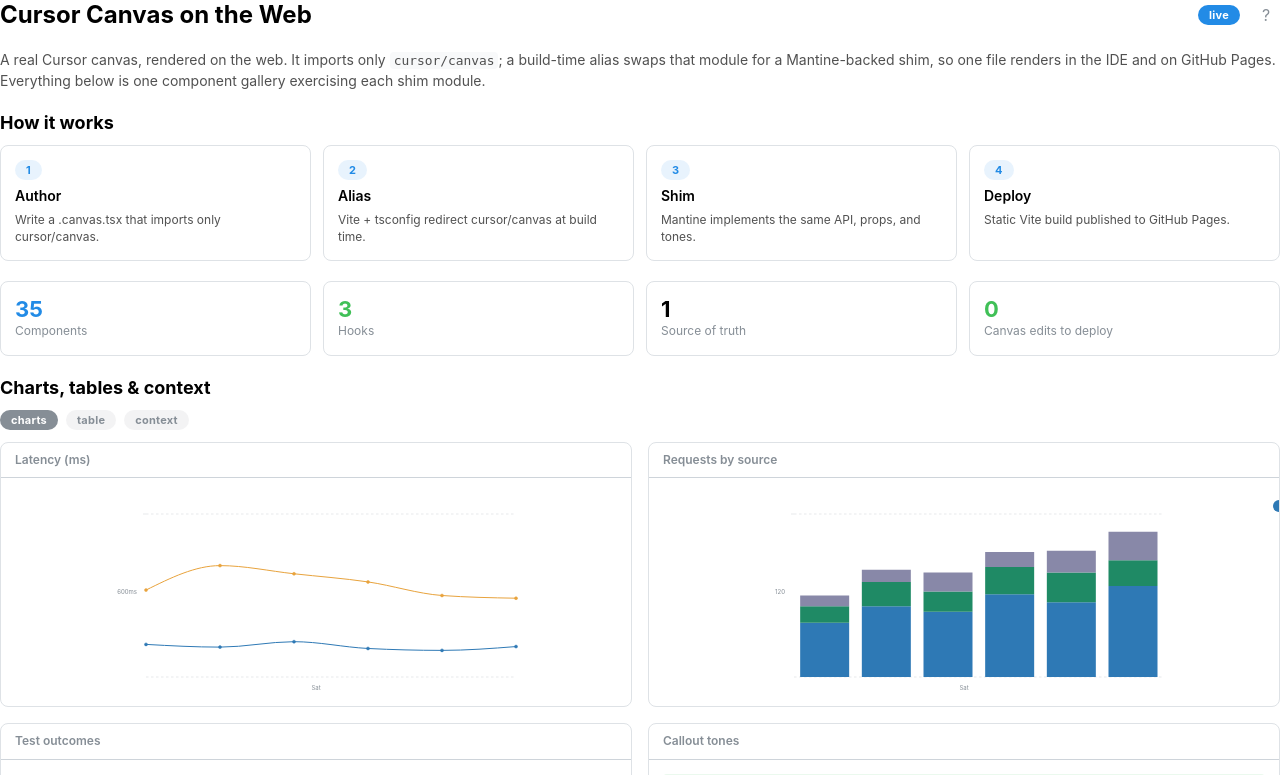
Test case: DemoCanvas showcase › reveals the UsageBar and Swatch legend on the "context" tab
The image size is (1280, 775).
Click the text "context". click: click(156, 420)
box: [135,411,178,429]
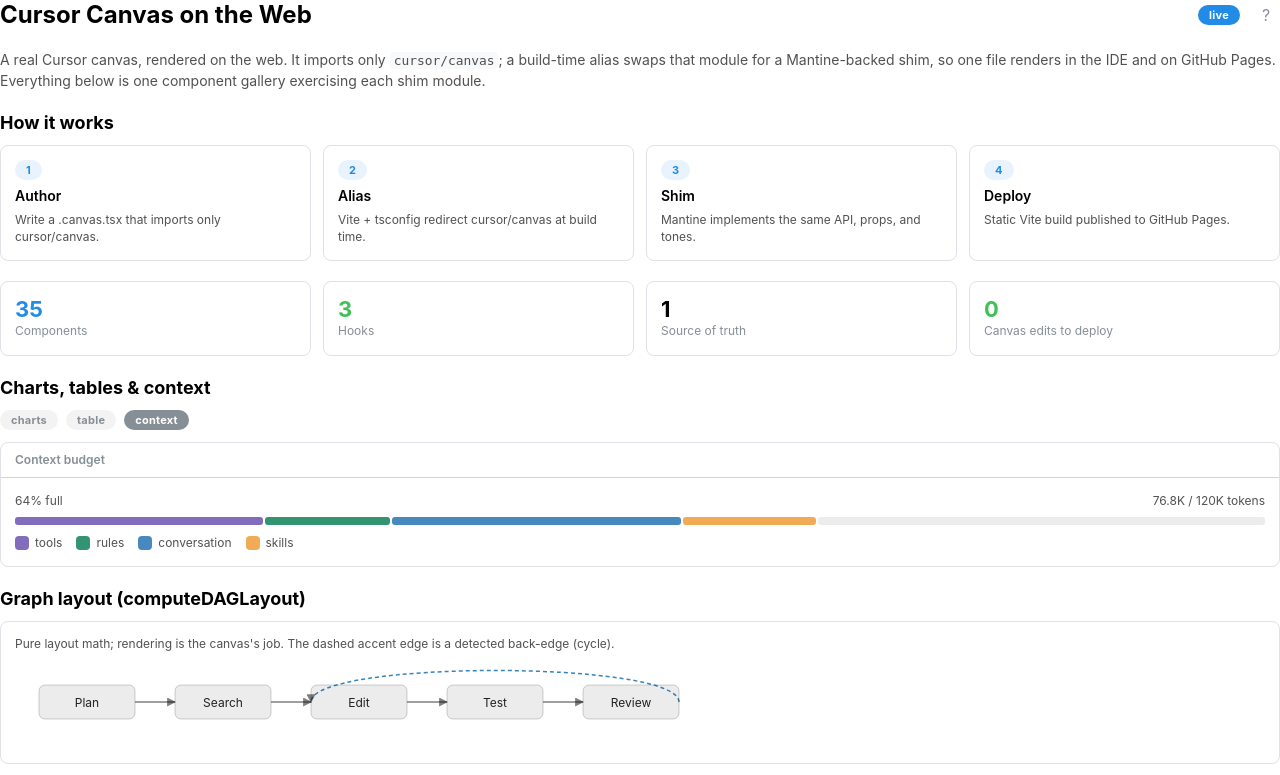
Expected: the text "64% full" is shown, [15,492,63,511]
Expected: the text "76.8K / 120K tokens" is shown, [1153,492,1265,511]
Expected: the text "tools" is shown, [35,535,62,552]
